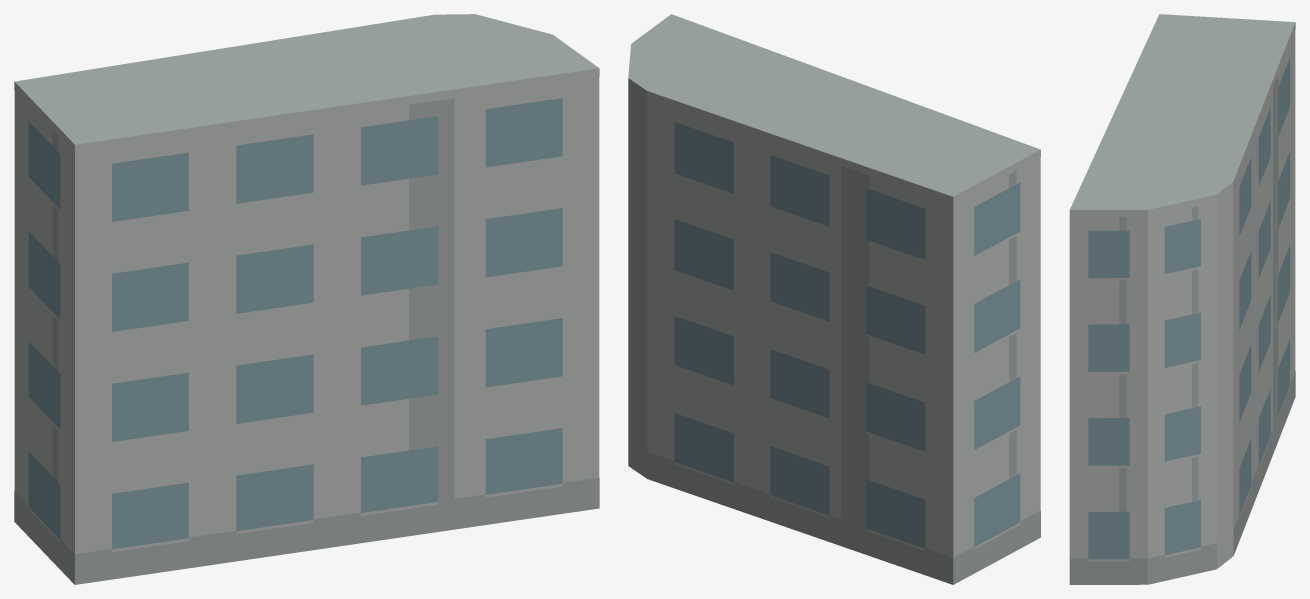
File: survey-upis-32702764.glb
The picture shows the model from 3 angles, left to right: view 1: azimuth 30°, elevation 25°; view 2: azimuth 150°, elevation 25°; view 3: azimuth 270°, elevation 25°; orthographic projection. The views are drawn at different scales.
Parts seen in each view (by area): view 1: survey-upis-32702764.tmp; view 2: survey-upis-32702764.tmp; view 3: survey-upis-32702764.tmp.
Part boxes in pixels (box(x1,y1,x2,y2)): survey-upis-32702764.tmp: box(14, 14, 599, 584); survey-upis-32702764.tmp: box(628, 14, 1040, 584); survey-upis-32702764.tmp: box(1069, 14, 1295, 584).
Bounding box in the file's own units: 13.7 × 12.2 × 6.67.
